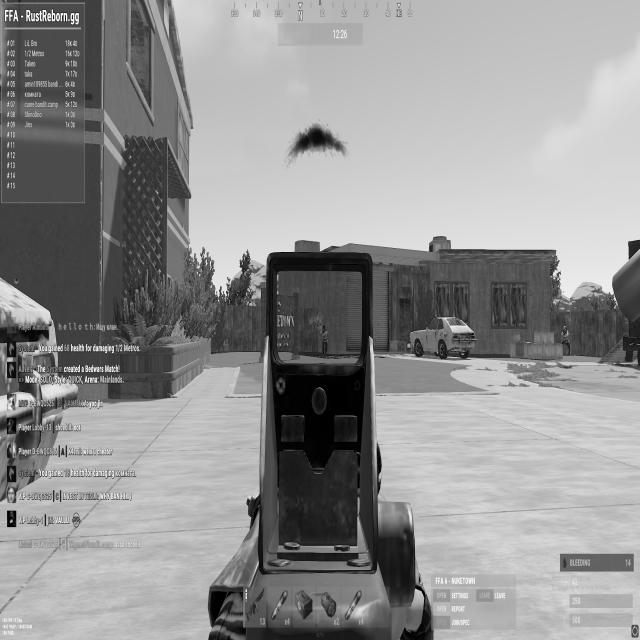Player: (561, 324, 571, 355), (320, 325, 328, 355), (322, 325, 326, 332)
